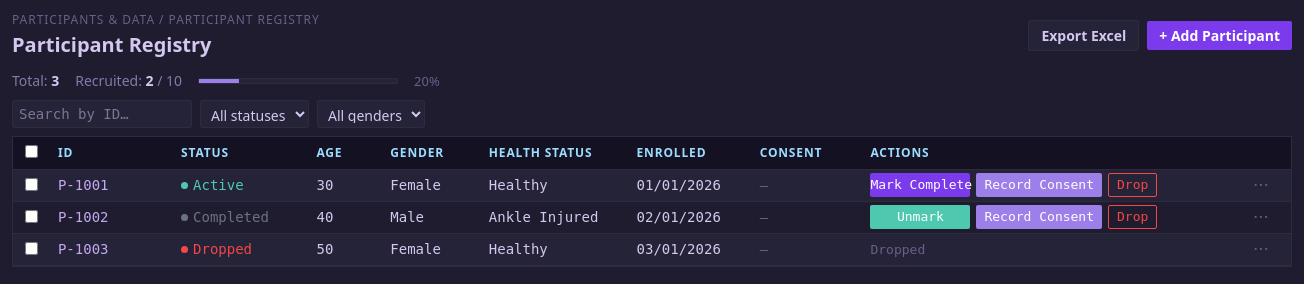
Test case: ParticipantsDisplay › shows "Clear filters" only once a filter is active
The image size is (1304, 284).
Expected: the text "Clear filters" is not shown
Type "P-1001" into the field with placeholder "Search by ID…" at (102, 114), box [12,100,192,128]
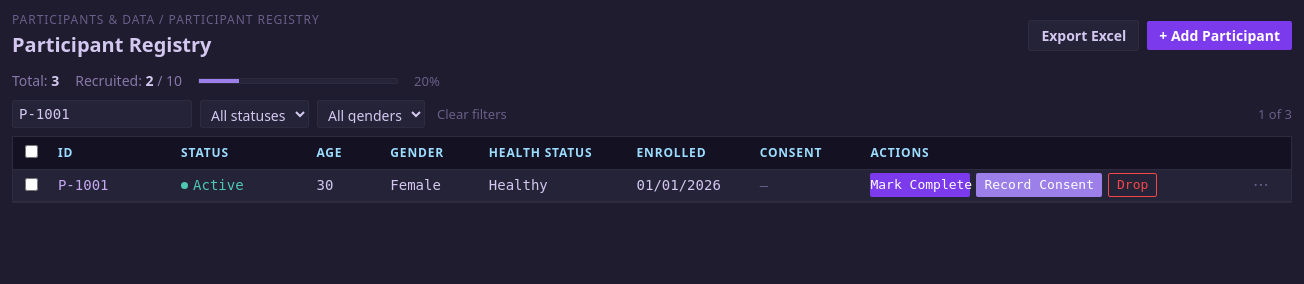
Now the button "Clear filters" is shown
Click the button "Clear filters" at (472, 114), box [433,105,511,124]
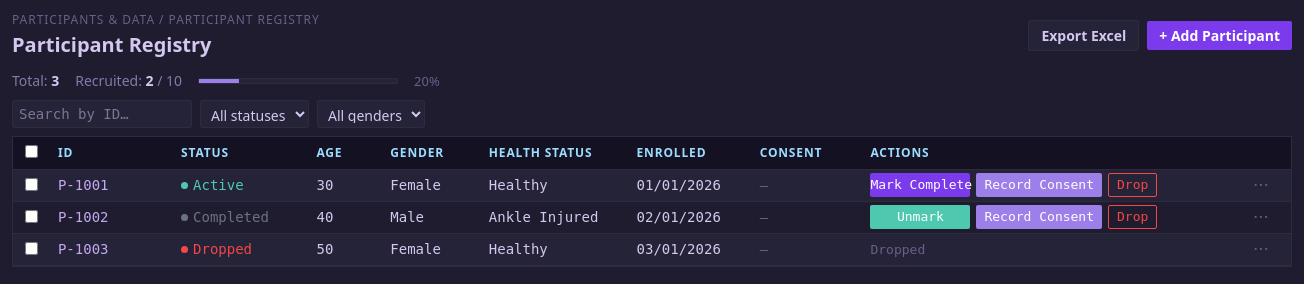
Now the button "Clear filters" is gone
